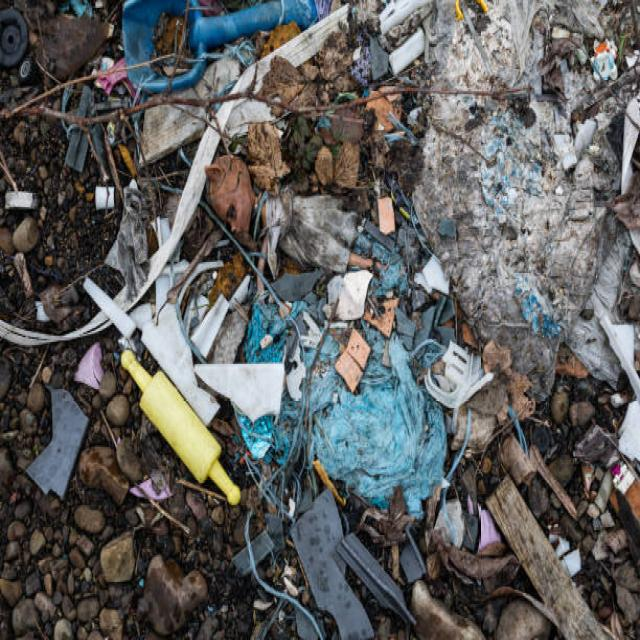plastic: (179, 72, 498, 468)
